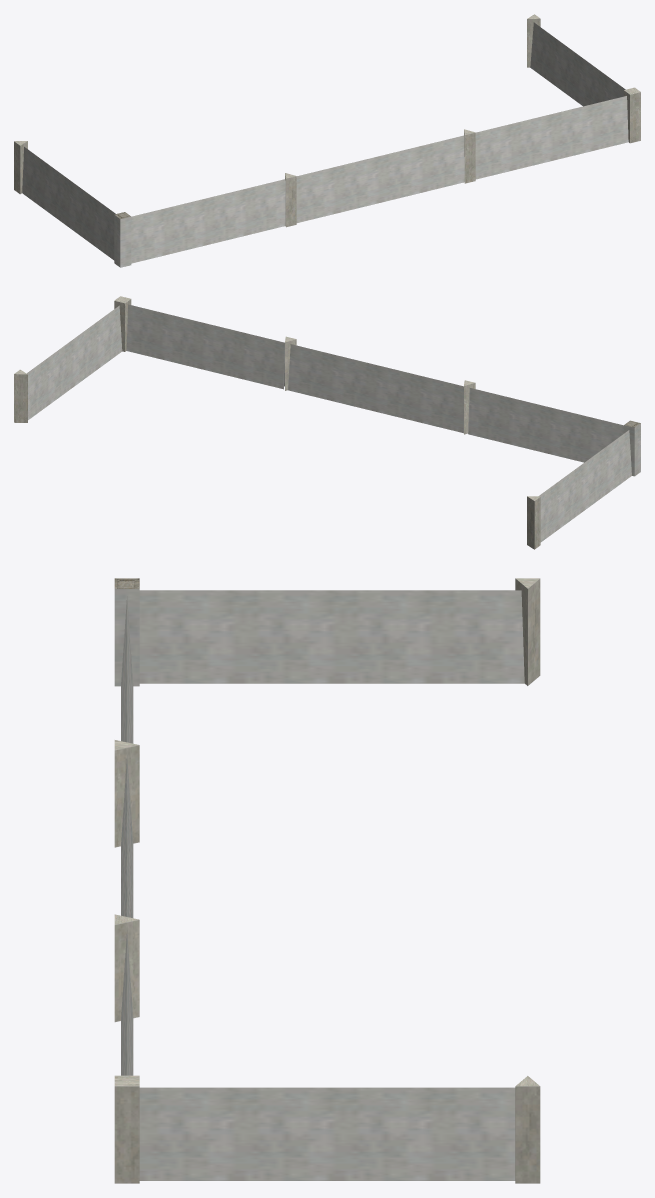
The model's file is poi_corl_corral_half_64x64_s04_l1.fbx.
3 views of the same model, one above another, from view 1: azimuth 30°, elevation 25°; view 2: azimuth 150°, elevation 25°; view 3: azimuth 270°, elevation 25° (orthographic). The views are drawn at different scales.
Parts seen in each view (by area): view 1: mesh_node; view 2: mesh_node; view 3: mesh_node.
Boxes of the visible parts, x1,y1,x2,y2 form: mesh_node: [14, 14, 640, 267]; mesh_node: [14, 296, 640, 549]; mesh_node: [114, 578, 540, 1183].
Bounding box in the file's own units: 48 × 4.29 × 17.
